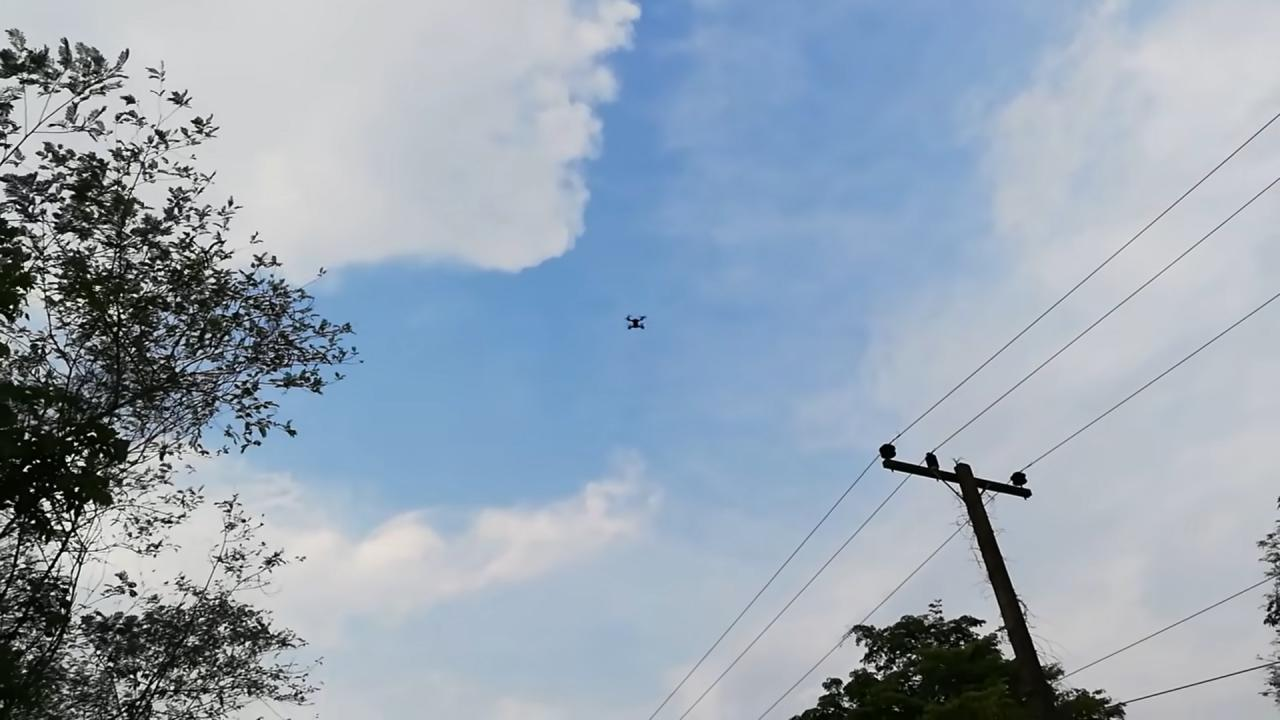Drone: (621, 308, 652, 337)
